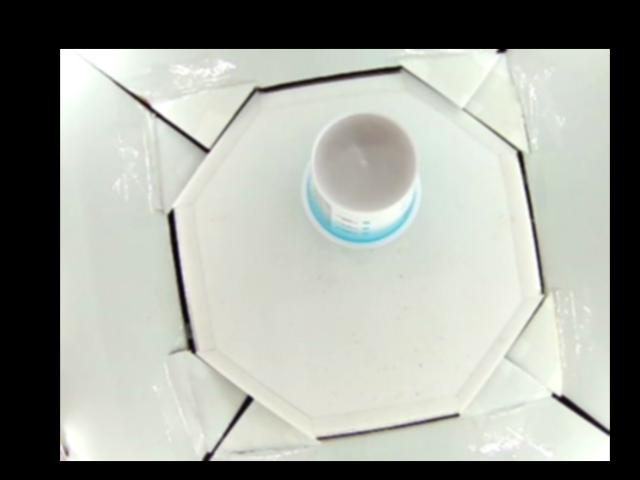Cup: (301, 109, 420, 248)
